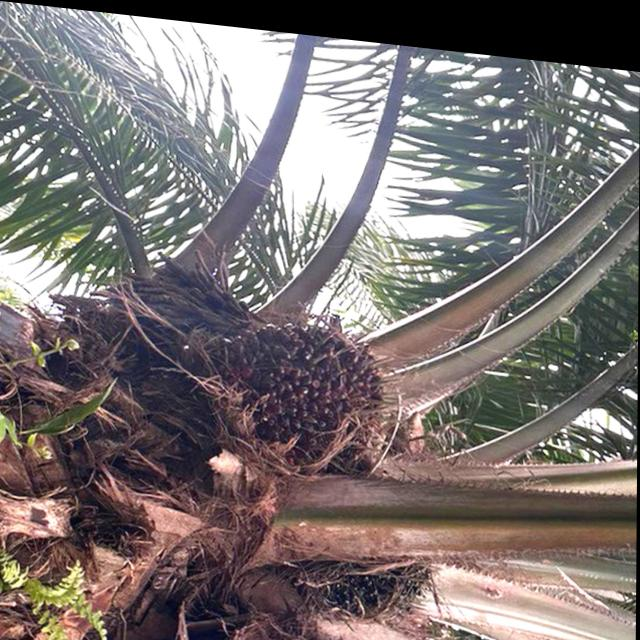ripe: (220, 288, 415, 480)
